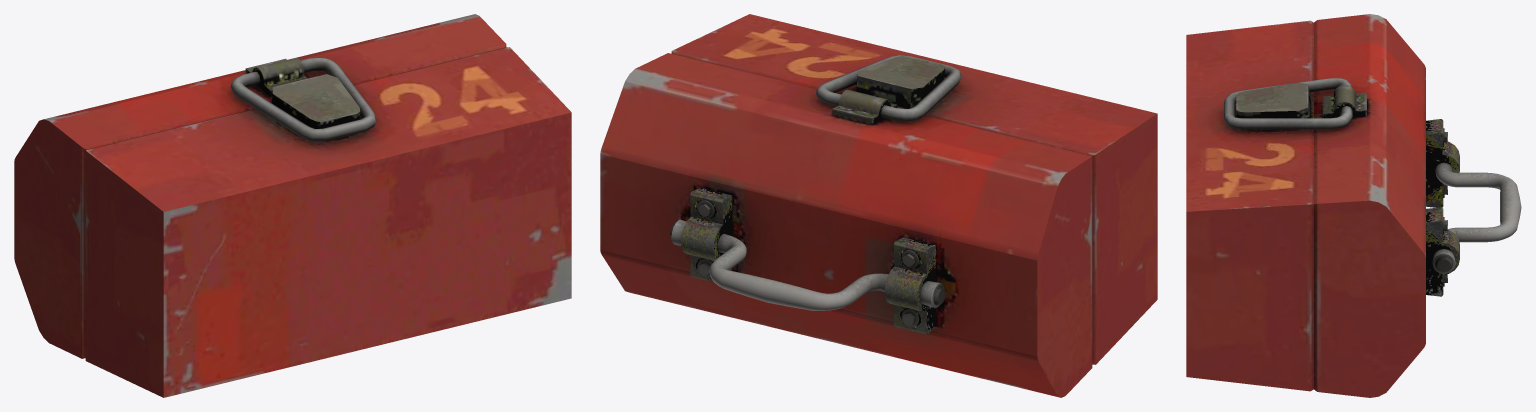
The picture shows the model from 3 angles, left to right: view 1: azimuth 30°, elevation 25°; view 2: azimuth 150°, elevation 25°; view 3: azimuth 270°, elevation 25°; orthographic projection. The views are drawn at different scales.
Parts seen in each view (by area): view 1: body0_model0_lod0_mesh0; view 2: body0_model0_lod0_mesh0; view 3: body0_model0_lod0_mesh0.
Part boxes in pixels (left/top/right/bottom): body0_model0_lod0_mesh0: left=14, top=14, right=571, bottom=397; body0_model0_lod0_mesh0: left=600, top=14, right=1157, bottom=397; body0_model0_lod0_mesh0: left=1186, top=14, right=1521, bottom=397.
Size of the model in its own units: 32.87 by 17.52 by 24.55.
1 material, 1 textured.
